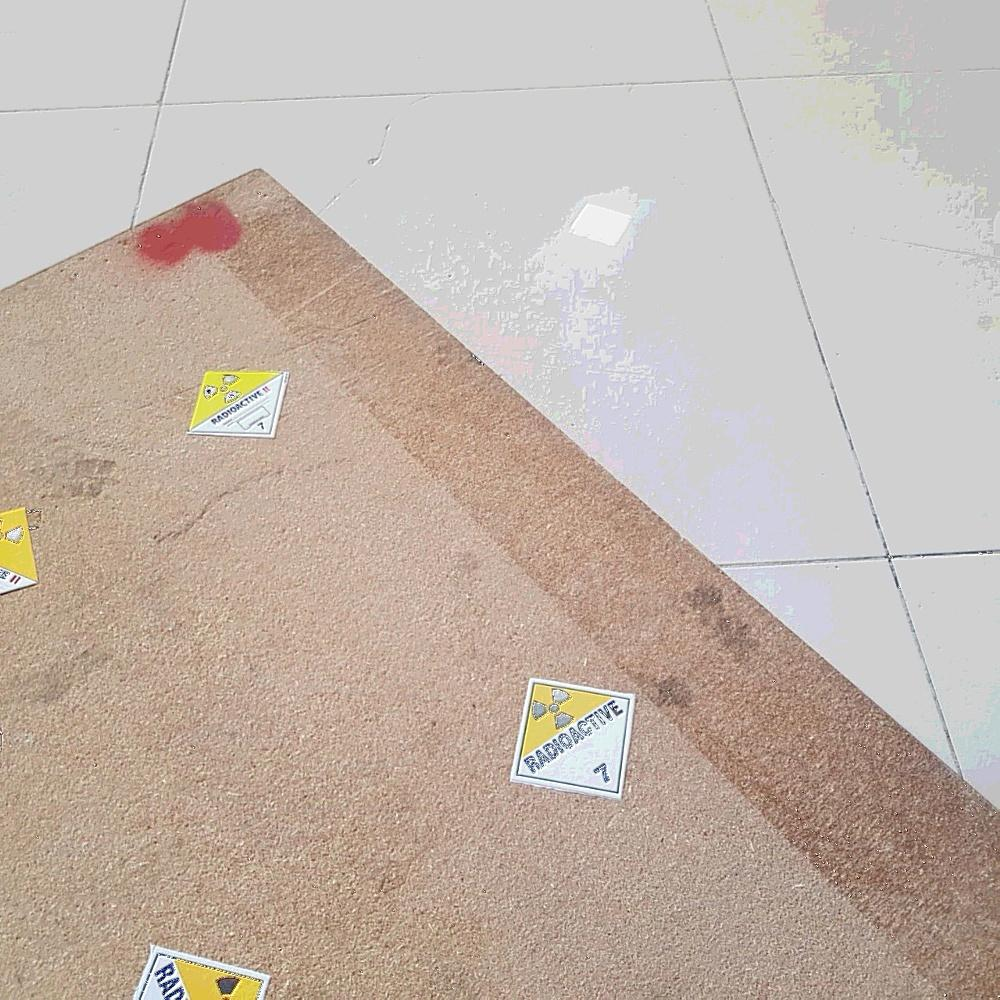radioactive: (510, 679, 638, 802), (130, 943, 272, 1000), (188, 370, 290, 439), (1, 509, 36, 599)
